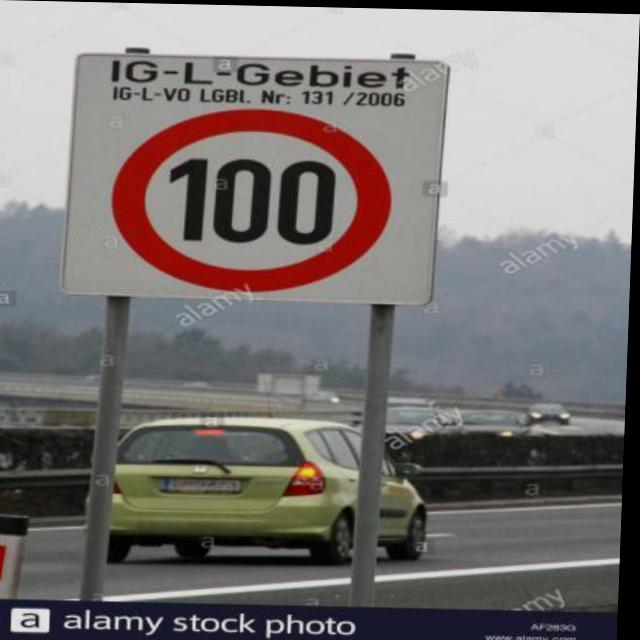limit100: (101, 101, 399, 300)
